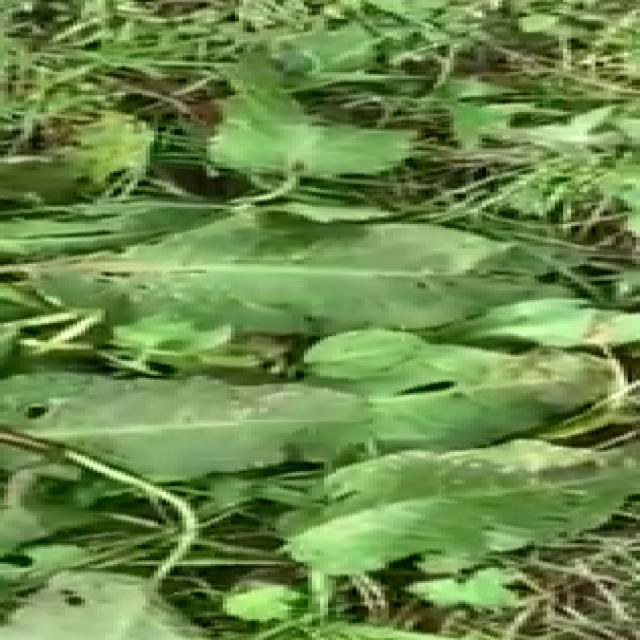organic waste: (8, 99, 640, 626)
